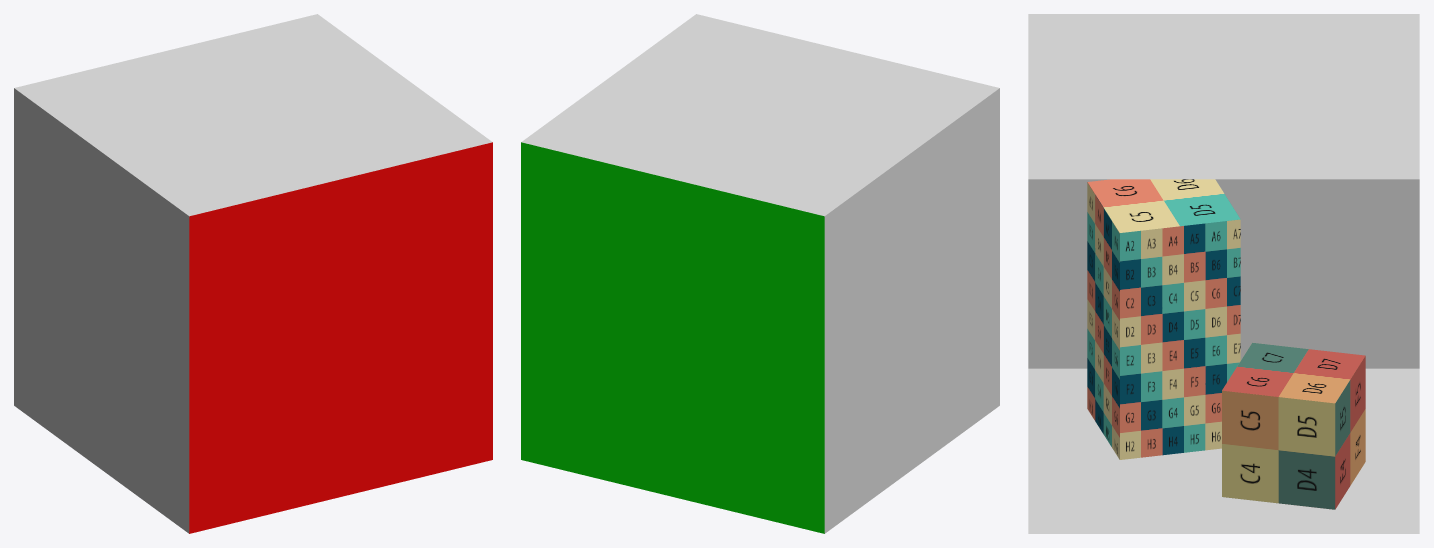
File: cornell_box.glb
The picture shows the model from 3 angles, left to right: view 1: azimuth 30°, elevation 25°; view 2: azimuth 150°, elevation 25°; view 3: azimuth 270°, elevation 25°; orthographic projection. The views are drawn at different scales.
Visible parts, largest first — view 1: body_wall, left_wall; view 2: body_wall, right_wall; view 3: body_wall, tall_box, box.
Part boxes in pixels (box(x1,y1,x2,y2)): body_wall: box(14, 14, 492, 533); left_wall: box(189, 142, 492, 533); body_wall: box(521, 14, 999, 533); right_wall: box(521, 142, 824, 533); body_wall: box(1028, 14, 1419, 533); tall_box: box(1087, 179, 1240, 459); box: box(1222, 342, 1365, 509).
Size of the model in its own units: 2.5 by 2.5 by 2.5.
5 materials, 2 textured.
